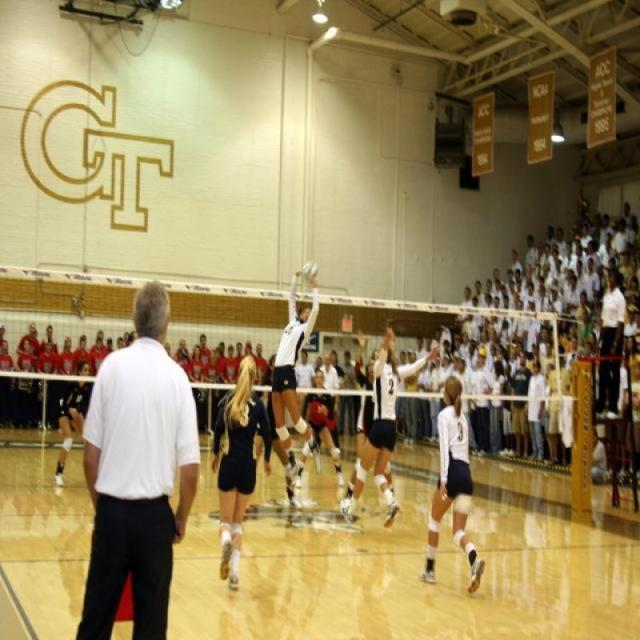volleyball: (302, 257, 318, 280)
